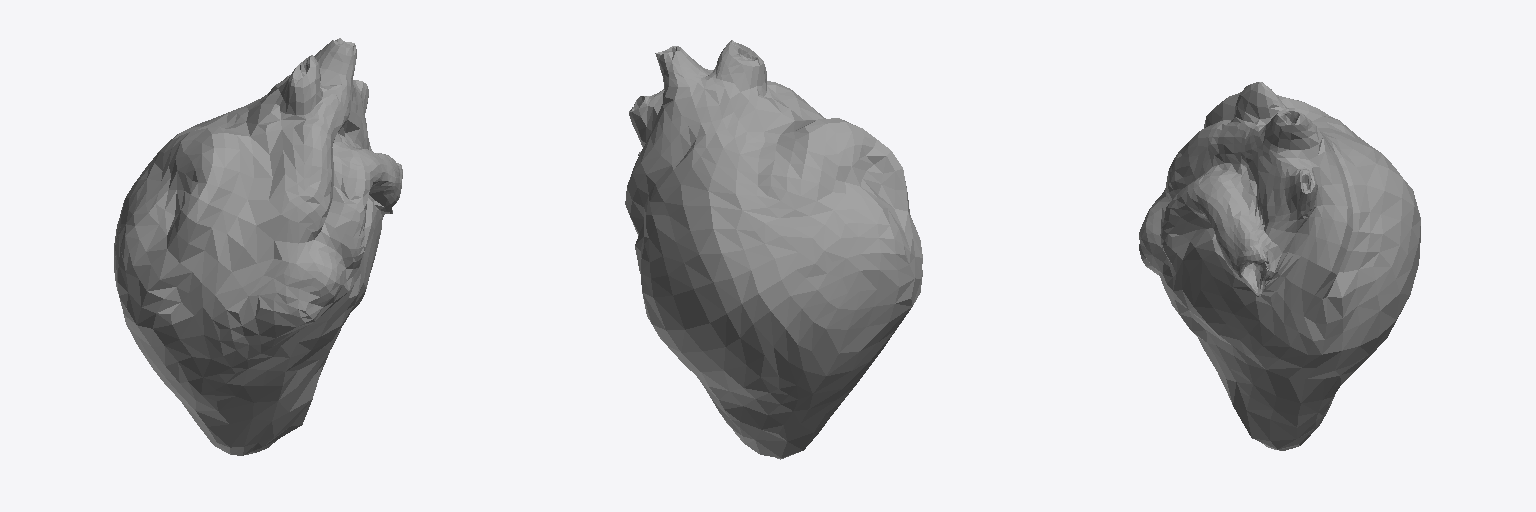
File: Heart.obj
3 renders of one model, left to right at view 1: azimuth 30°, elevation 25°; view 2: azimuth 150°, elevation 25°; view 3: azimuth 270°, elevation 25°, orthographic.
Parts seen in each view (by area): view 1: Heart; view 2: Heart; view 3: Heart.
Part boxes in pixels (x1,y1,x2,y2): Heart: (114,38,402,455); Heart: (625,40,922,459); Heart: (1139,82,1420,450).
Size of the model in its own units: 0.7388 by 1.01 by 0.6574.